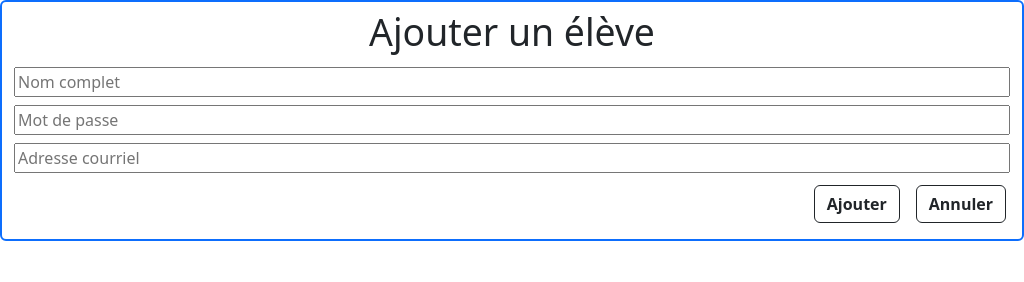
Test case: AddStudentForm.vue › Sending a form with invalid password shows short password error message
Type "Nom valide" into the field named "name" at (512, 82), box [14, 67, 1010, 97]
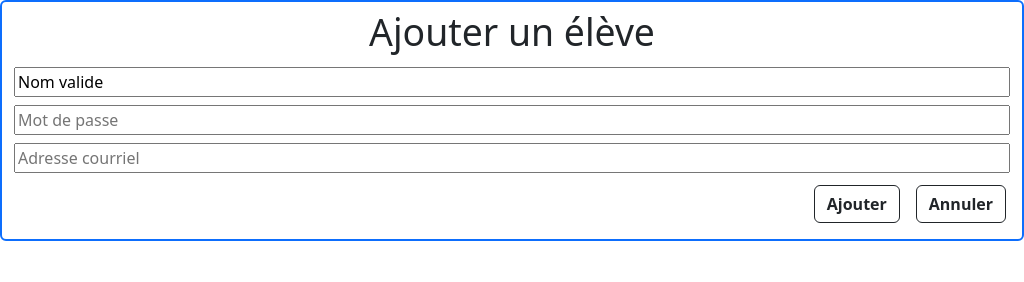
Type "TS" into the field named "password" at (512, 120), box [14, 105, 1010, 135]
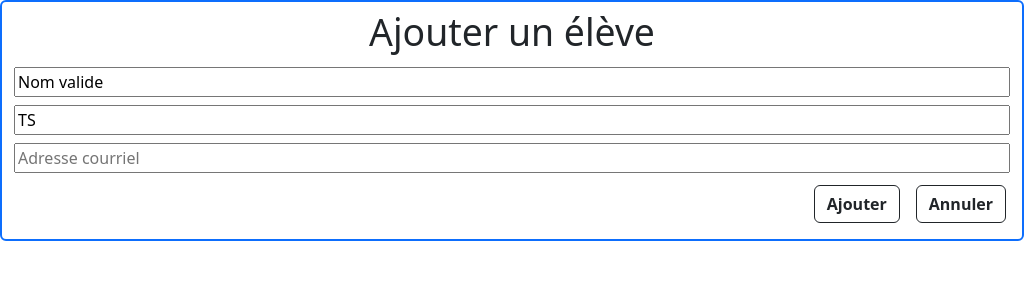
Type "email@valide.com" into the field named "email" at (512, 158), box [14, 143, 1010, 173]
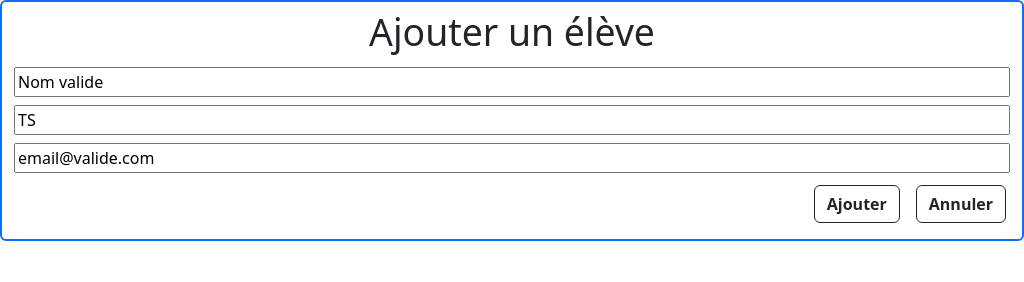
Click the button named "addButton" at (857, 204), box [814, 185, 900, 223]
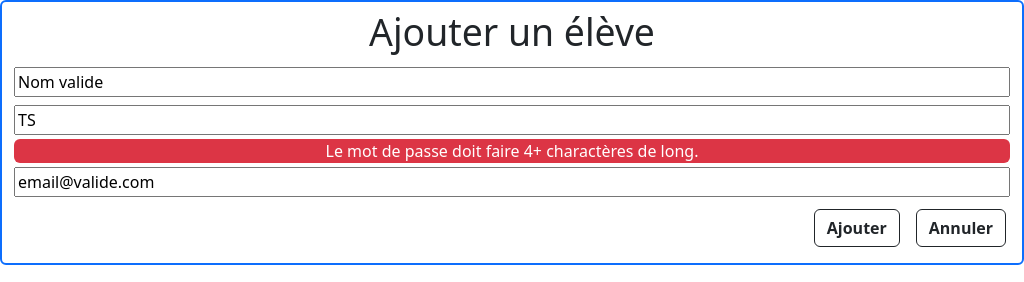
Now the text named "passwordError" reads "Le mot de passe doit faire 4+ charactères de long.", box [326, 140, 698, 162]
